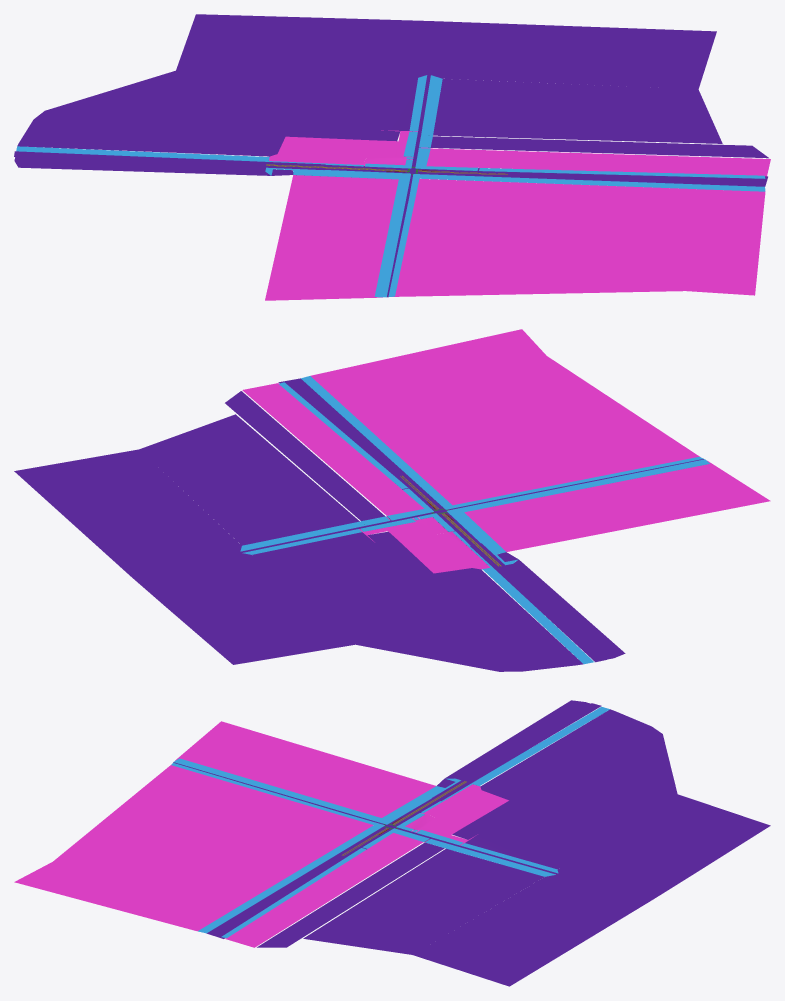
File: Roads.fbx
3 views of the same model, one above another, from view 1: azimuth 30°, elevation 25°; view 2: azimuth 150°, elevation 25°; view 3: azimuth 270°, elevation 25° (orthographic). The views are drawn at different scales.
Visible parts, largest first — view 1: Roads; view 2: Roads; view 3: Roads.
Boxes of the visible parts, x1=… form: Roads: x1=14, y1=14, x2=770, y2=300; Roads: x1=14, y1=329, x2=770, y2=671; Roads: x1=14, y1=700, x2=770, y2=986.
Size of the model in its own units: 145490 by 193 by 162538.
